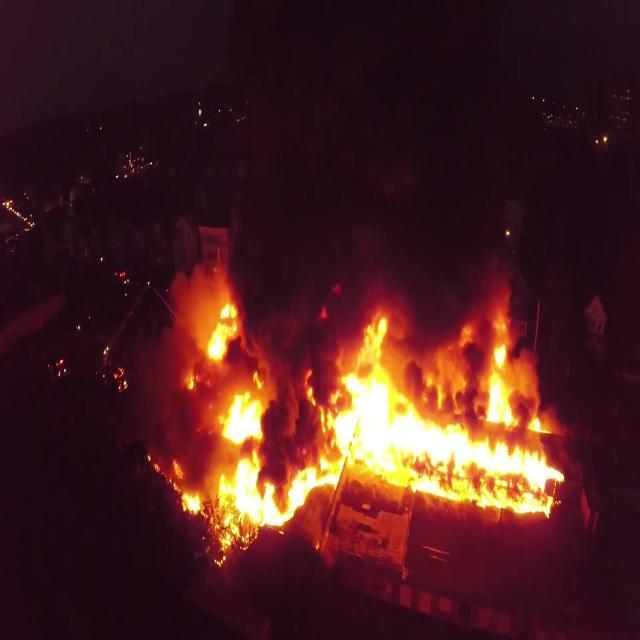Fire: (182, 308, 564, 562)
Smoke: (228, 167, 502, 486)
